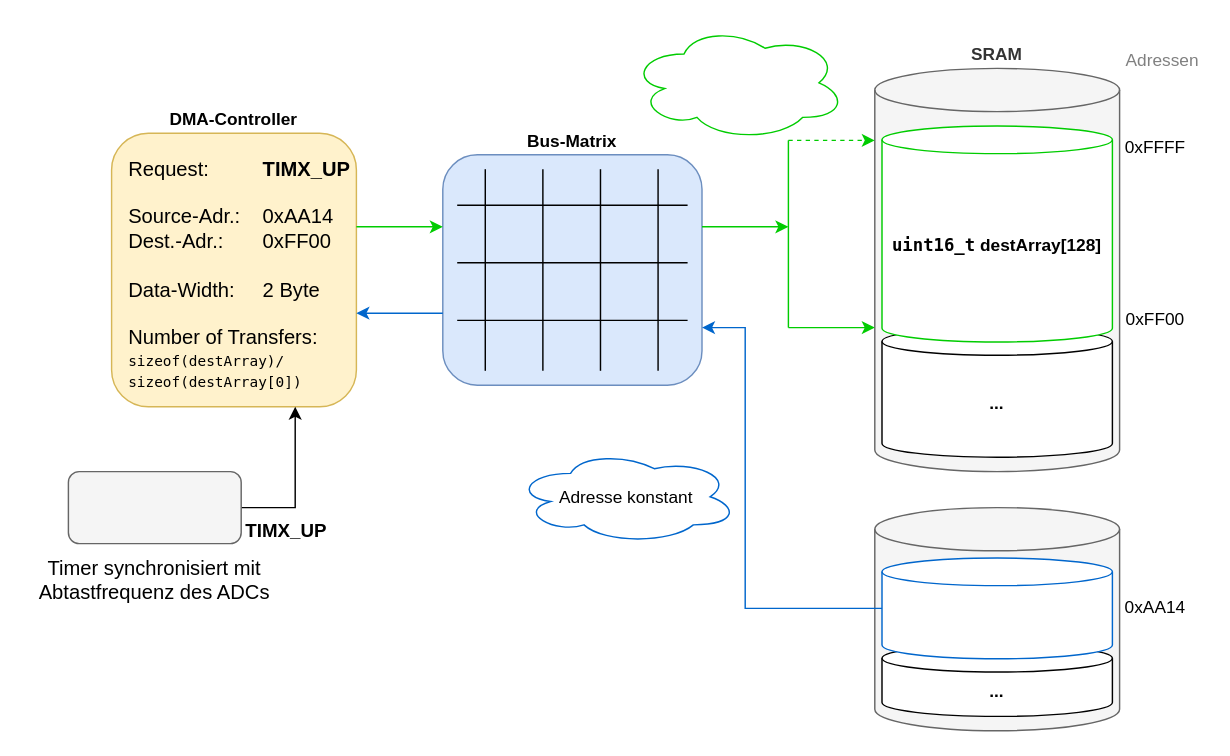
Image size: 1230x756. Some labels were removed from this diagram. Here are the shapes that lost their labels. From the top down, the box of each, then its label:
(629, 24, 846, 140): Adresse mit jedem Transfer inkrementiert
(67, 470, 241, 544): Timer TIMX
(881, 557, 1112, 659): Eingangsdaten-Register GPIO-IDR
(873, 506, 1120, 731): Peripherie-Register
